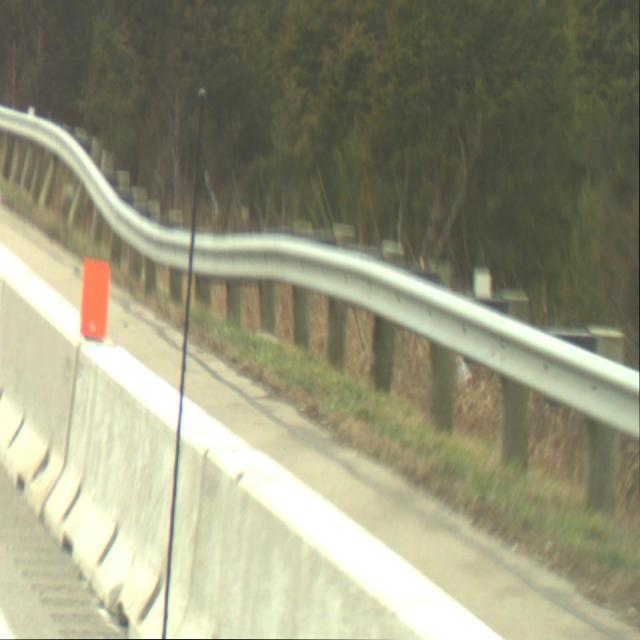Guard rail: (0, 100, 640, 533)
